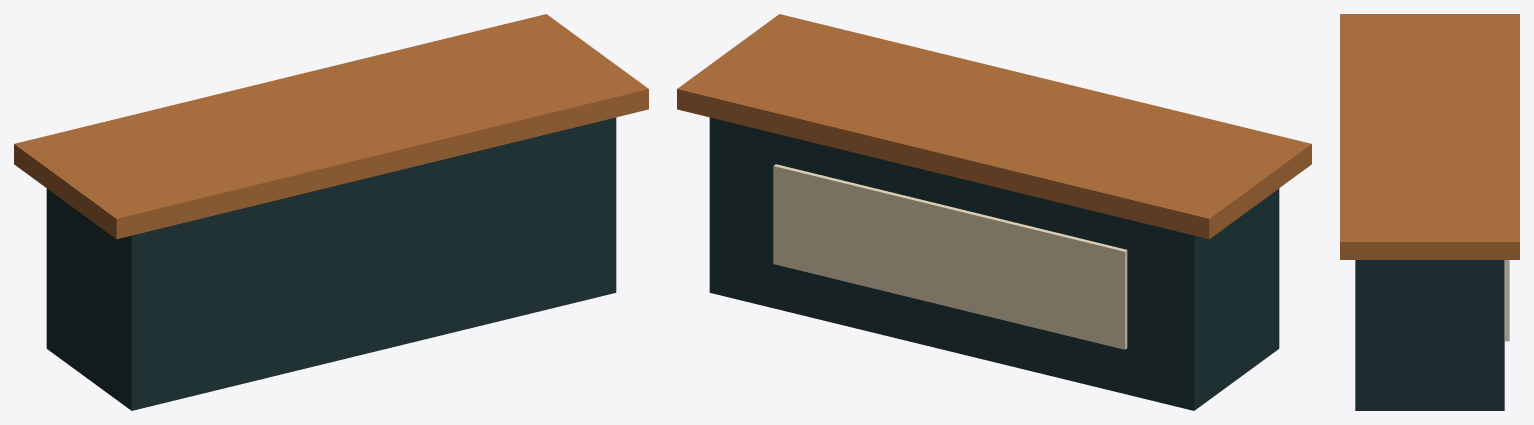
The model's file is ticket_desk.fbx.
3 renders of one model, left to right at view 1: azimuth 30°, elevation 25°; view 2: azimuth 150°, elevation 25°; view 3: azimuth 270°, elevation 25°, orthographic. The views are drawn at different scales.
Visible parts, largest first — view 1: ticket_desk; view 2: ticket_desk; view 3: ticket_desk.
Boxes of the visible parts, x1,y1,x2,y2 form: ticket_desk: (14,14,648,410); ticket_desk: (677,14,1311,410); ticket_desk: (1340,14,1519,410).
Size of the model in its own units: 3 by 1.1 by 1.
